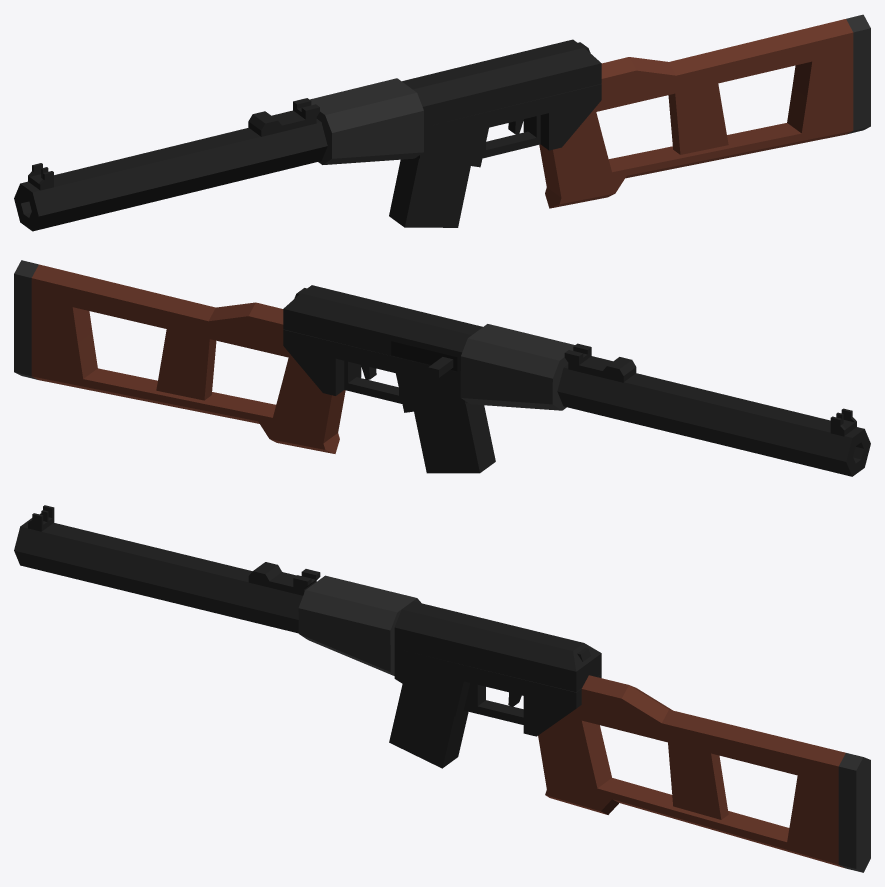
The model's file is vss.fbx.
3 renders of one model, top to bottom at view 1: azimuth 30°, elevation 25°; view 2: azimuth 150°, elevation 25°; view 3: azimuth 330°, elevation 25°, orthographic.
Visible parts, largest first — view 1: stock, barrel.009, base.001, grip, base, magazine.006, sight_rear.012, trigger_guard.005, sight_front.012; view 2: stock, barrel.009, base.001, grip, base, magazine.006, sight_rear.012, trigger_guard.005, holes.005, sight_front.012; view 3: stock, barrel.009, base.001, grip, base, magazine.006, sight_rear.012, trigger_guard.005.
Boxes of the visible parts, x1,y1,x2,y2 form: stock: (539,14,870,208); barrel.009: (14,119,327,231); base.001: (402,39,601,127); grip: (310,78,423,164); base: (417,84,601,167); magazine.006: (389,157,470,227); sight_rear.012: (248,98,319,136); trigger_guard.005: (482,115,540,158); sight_front.012: (28,163,53,190); stock: (14,260,345,453); barrel.009: (557,364,870,476); base.001: (283,285,482,372); grip: (460,324,574,410); base: (283,329,467,412); magazine.006: (414,402,495,473); sight_rear.012: (564,343,636,382); trigger_guard.005: (344,361,402,403); holes.005: (391,341,457,370); sight_front.012: (830,408,856,436); stock: (538,675,870,872); barrel.009: (14,518,302,633); base.001: (394,601,601,691); grip: (298,575,421,675); base: (394,648,601,736); magazine.006: (389,684,468,768); sight_rear.012: (248,562,320,595); trigger_guard.005: (463,683,523,724).
Bounding box in the file's own units: 88.39 × 969 × 184.
